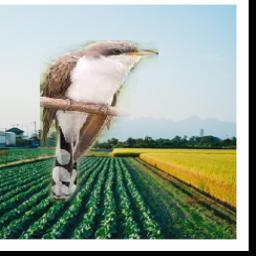Cuckoo: (41, 40, 159, 202)
